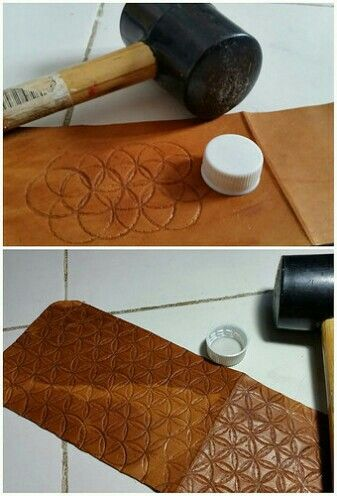cuero: (2, 101, 335, 492)
